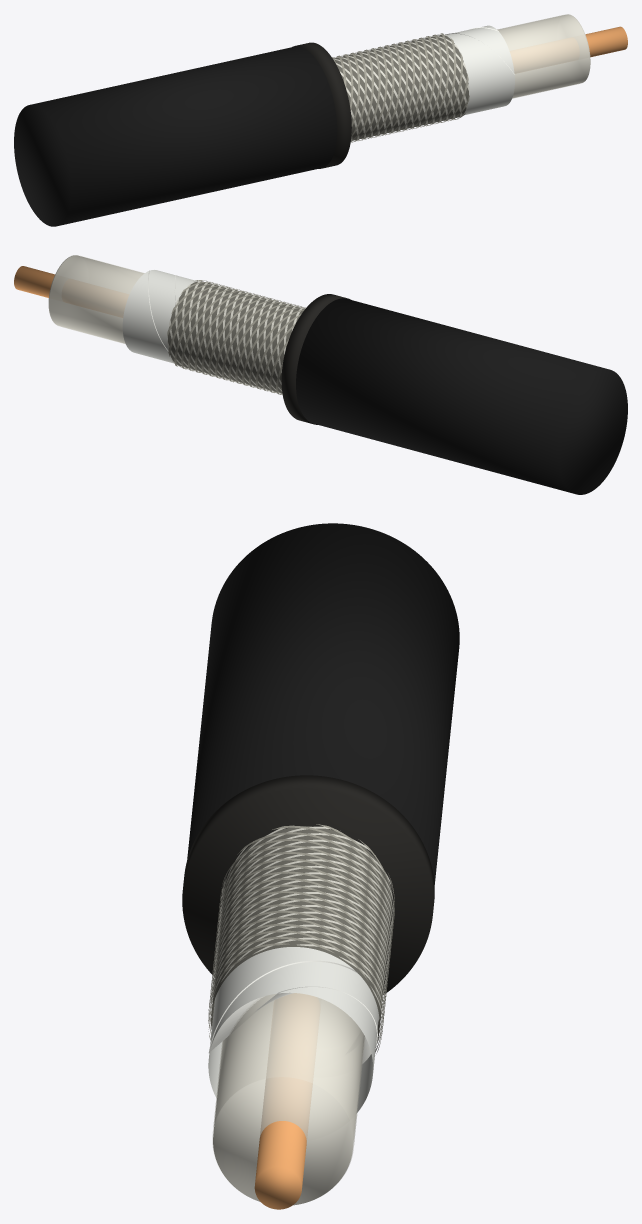
File: rf-lmr195.glb
3 renders of one model, top to bottom at view 1: azimuth 30°, elevation 25°; view 2: azimuth 150°, elevation 25°; view 3: azimuth 270°, elevation 25°, orthographic. The views are drawn at different scales.
Visible parts, largest first — view 1: matte black pvc jacket body, braid dark diamond recess, gas injected foam dielectric, smooth dielectric skin, duobond foil sleeve, jacket cut lip, solid center conductor continuous, braid left hand woven carrier 01, braid left hand woven carrier 12, braid left hand woven carrier 11, braid left hand woven carrier 02, braid left hand woven carrier 10 (+7 smaller); view 2: matte black pvc jacket body, braid dark diamond recess, gas injected foam dielectric, smooth dielectric skin, duobond foil sleeve, jacket cut lip, solid center conductor continuous, braid left hand woven carrier 08, braid left hand woven carrier 09, braid left hand woven carrier 07, braid left hand woven carrier 10, braid left hand woven carrier 06 (+6 smaller); view 3: matte black pvc jacket body, gas injected foam dielectric, jacket cut lip, braid dark diamond recess, smooth dielectric skin, duobond foil sleeve, solid center conductor continuous, subtle foil wrap lap, braid left hand woven carrier 09, braid left hand woven carrier 10, braid left hand woven carrier 08, braid left hand woven carrier 11.
Boxes of the visible parts, bbox=[...] form: matte black pvc jacket body: bbox=[14, 46, 337, 226]; braid dark diamond recess: bbox=[334, 35, 468, 140]; gas injected foam dielectric: bbox=[498, 14, 590, 97]; smooth dielectric skin: bbox=[497, 14, 589, 98]; duobond foil sleeve: bbox=[446, 25, 514, 114]; jacket cut lip: bbox=[292, 42, 351, 168]; solid center conductor continuous: bbox=[585, 26, 627, 57]; braid left hand woven carrier 01: bbox=[351, 37, 456, 141]; braid left hand woven carrier 12: bbox=[351, 33, 449, 136]; braid left hand woven carrier 11: bbox=[350, 34, 442, 129]; braid left hand woven carrier 02: bbox=[352, 48, 462, 142]; braid left hand woven carrier 10: bbox=[343, 36, 435, 131]; matte black pvc jacket body: bbox=[296, 298, 627, 494]; braid dark diamond recess: bbox=[168, 281, 304, 393]; gas injected foam dielectric: bbox=[48, 255, 143, 343]; smooth dielectric skin: bbox=[49, 255, 144, 343]; duobond foil sleeve: bbox=[122, 270, 197, 363]; jacket cut lip: bbox=[281, 294, 350, 424]; solid center conductor continuous: bbox=[14, 266, 54, 297]; braid left hand woven carrier 08: bbox=[174, 289, 301, 389]; braid left hand woven carrier 09: bbox=[168, 287, 304, 387]; braid left hand woven carrier 07: bbox=[181, 291, 295, 391]; braid left hand woven carrier 10: bbox=[167, 285, 305, 385]; braid left hand woven carrier 06: bbox=[188, 292, 288, 392]; matte black pvc jacket body: bbox=[187, 523, 459, 884]; gas injected foam dielectric: bbox=[213, 993, 364, 1205]; jacket cut lip: bbox=[182, 775, 434, 994]; braid dark diamond recess: bbox=[211, 826, 392, 1047]; smooth dielectric skin: bbox=[212, 993, 365, 1185]; duobond foil sleeve: bbox=[208, 947, 378, 1112]; solid center conductor continuous: bbox=[254, 1077, 312, 1209]; subtle foil wrap lap: bbox=[208, 960, 379, 1063]; braid left hand woven carrier 09: bbox=[212, 839, 391, 1053]; braid left hand woven carrier 10: bbox=[211, 845, 390, 1018]; braid left hand woven carrier 08: bbox=[213, 832, 392, 1052]; braid left hand woven carrier 11: bbox=[211, 852, 390, 1002].
Size of the model in its own units: 6.53 by 1.25 by 1.38.
